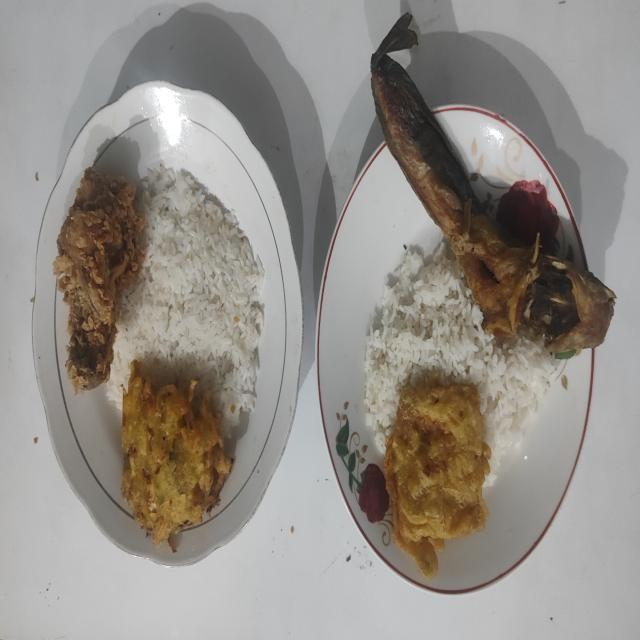nasi_putih: (363, 242, 560, 480), (108, 163, 268, 426)
